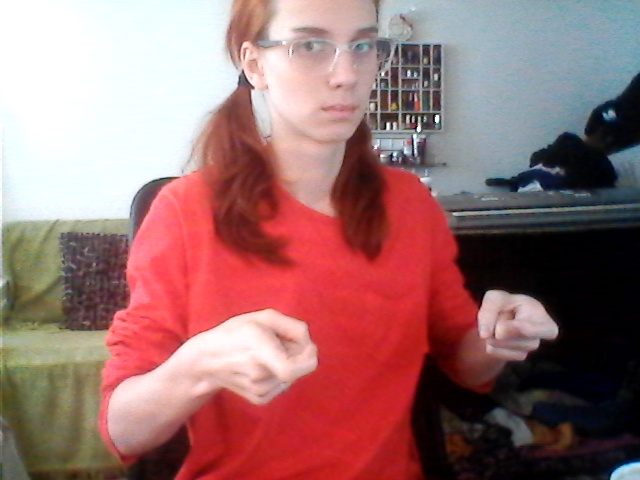davat: (201, 282, 563, 408)
